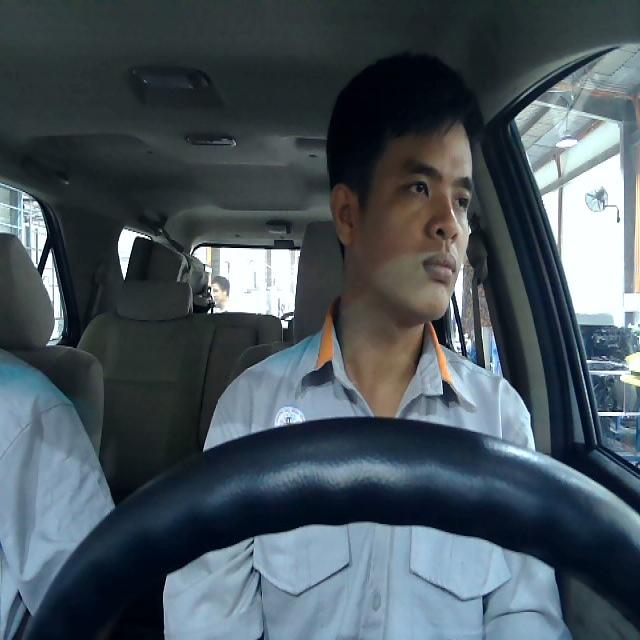seeing_right: (329, 112, 472, 320)
